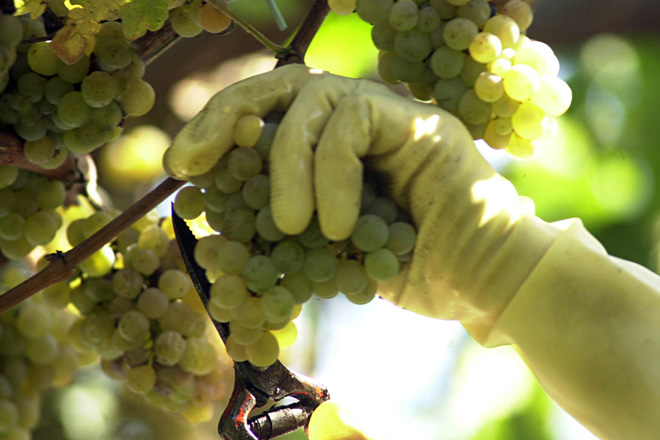Green grapes: (186, 152, 424, 332), (362, 1, 579, 143)
